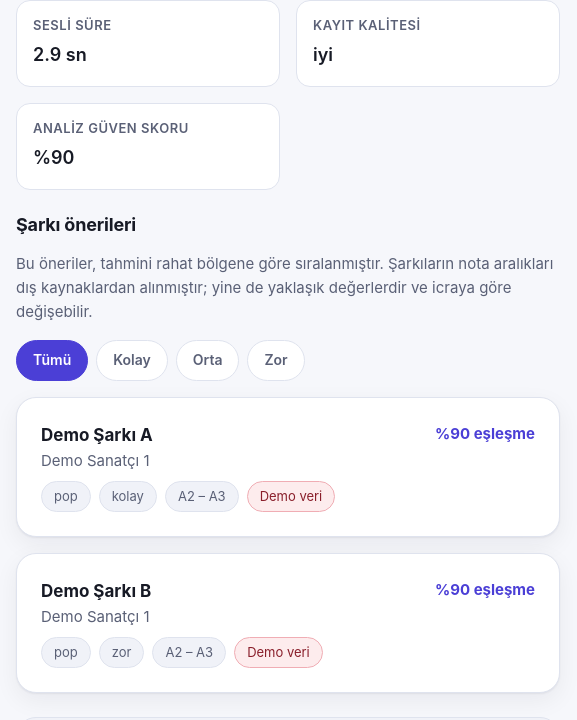
Test: ResultsScreen — şarkı önerileri › zorluk filtresi yalnızca seçilen zorluktaki şarkıları gösterir
(page scrolled)
Expected: the text "Demo Şarkı A" is shown, [41,422,153,449]
Expected: the text "Demo Şarkı B" is shown, [41,578,151,605]
Click the button "Zor" at x=276, y=360, box [247,340,305,381]
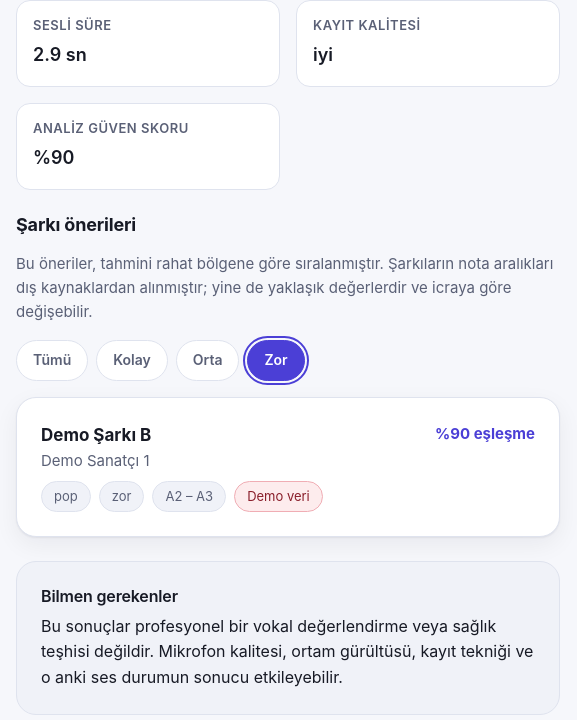
Expected: the text "Demo Şarkı B" is shown, [41,422,151,449]
Expected: the text "Demo Şarkı A" is gone
